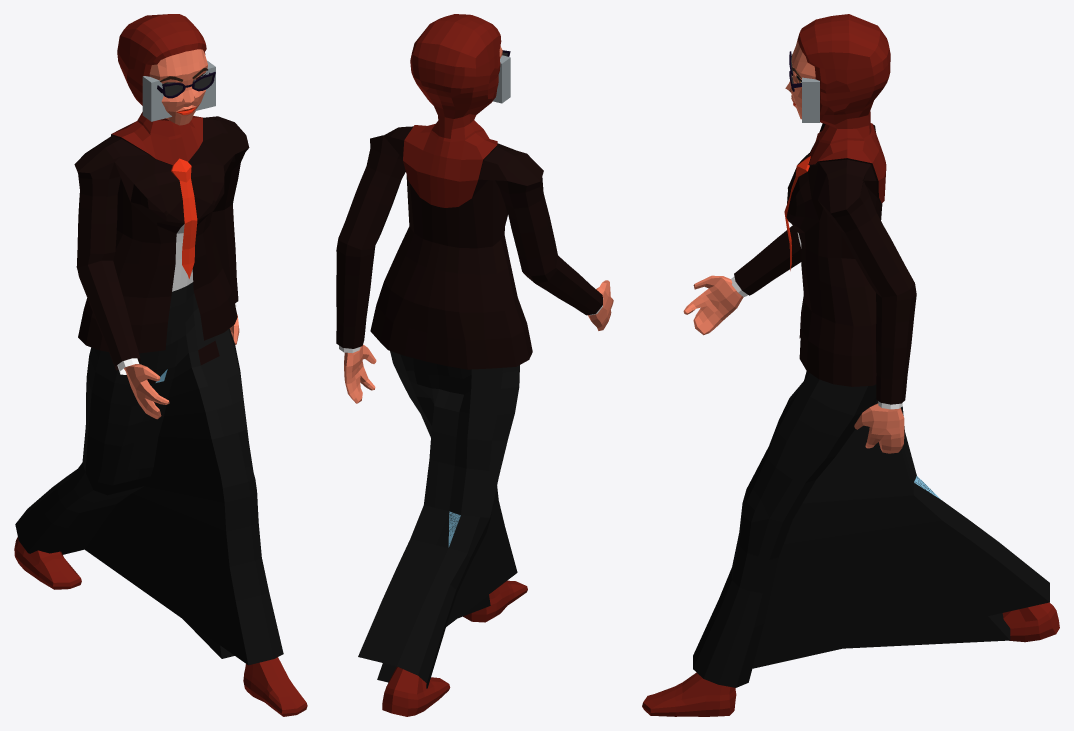
Rendered from ScientistFemale_A_Walk_Mask.fbx.
The picture shows the model from 3 angles, left to right: view 1: azimuth 30°, elevation 25°; view 2: azimuth 150°, elevation 25°; view 3: azimuth 270°, elevation 25°; orthographic projection. The views are drawn at different scales.
Parts seen in each view (by area): view 1: ScientistFemale_A_Walk_Mask; view 2: ScientistFemale_A_Walk_Mask; view 3: ScientistFemale_A_Walk_Mask.
Boxes of the visible parts, x1,y1,x2,y2 form: ScientistFemale_A_Walk_Mask: (14,14,307,716); ScientistFemale_A_Walk_Mask: (336,14,613,716); ScientistFemale_A_Walk_Mask: (642,14,1059,716).
Size of the model in its own units: 0.281 by 0.8973 by 0.5064.
